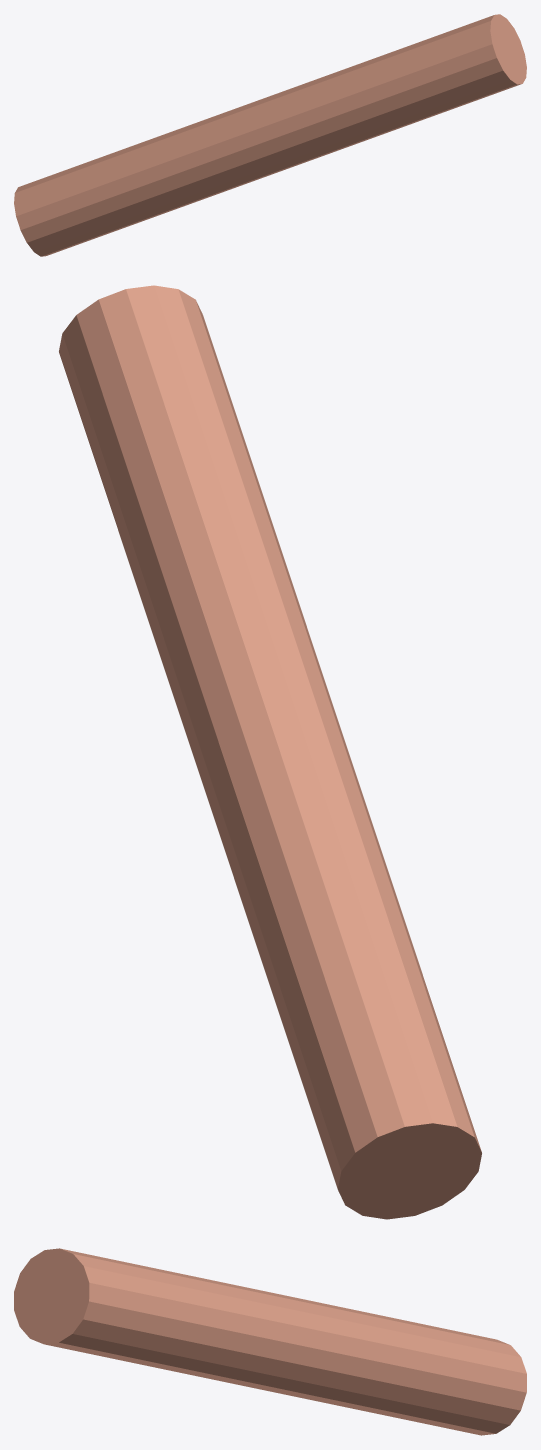
Rendered from seg_cylinder_demo.glb.
3 renders of one model, top to bottom at view 1: azimuth 30°, elevation 25°; view 2: azimuth 150°, elevation 25°; view 3: azimuth 270°, elevation 25°, orthographic. The views are drawn at different scales.
Visible parts, largest first — view 1: skew_segment; view 2: skew_segment; view 3: skew_segment.
Part boxes in pixels (x1,y1,x2,y2): skew_segment: (14, 14, 526, 256); skew_segment: (59, 285, 481, 1219); skew_segment: (14, 1248, 526, 1435).
Bounding box in the file's own units: 22 × 16.52 × 21.1.
